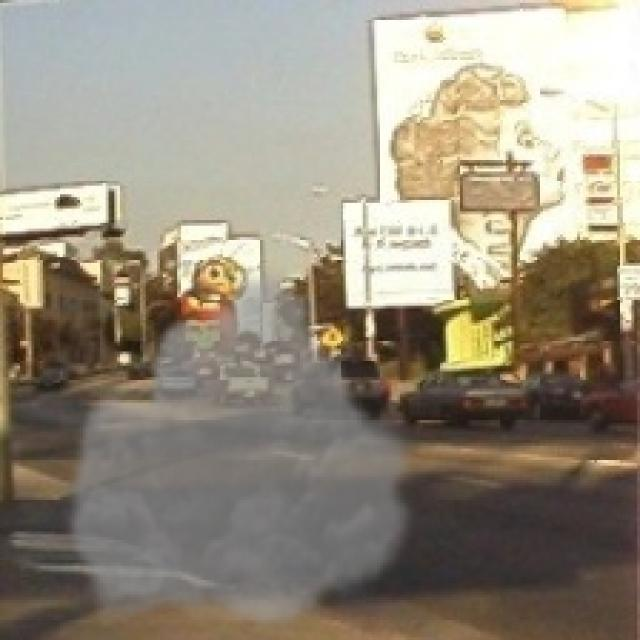smoke: (60, 263, 423, 631)
